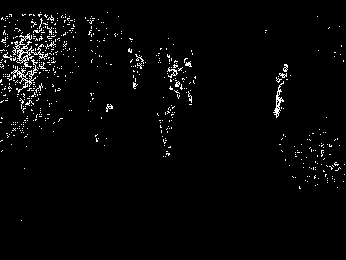person: (264, 61, 291, 125)
